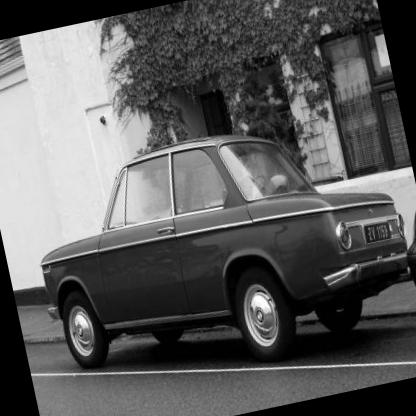car: (13, 74, 416, 398)
